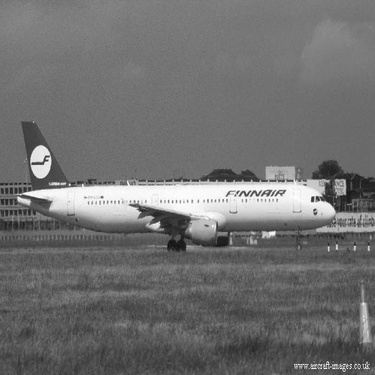airplane: (8, 108, 344, 259)
